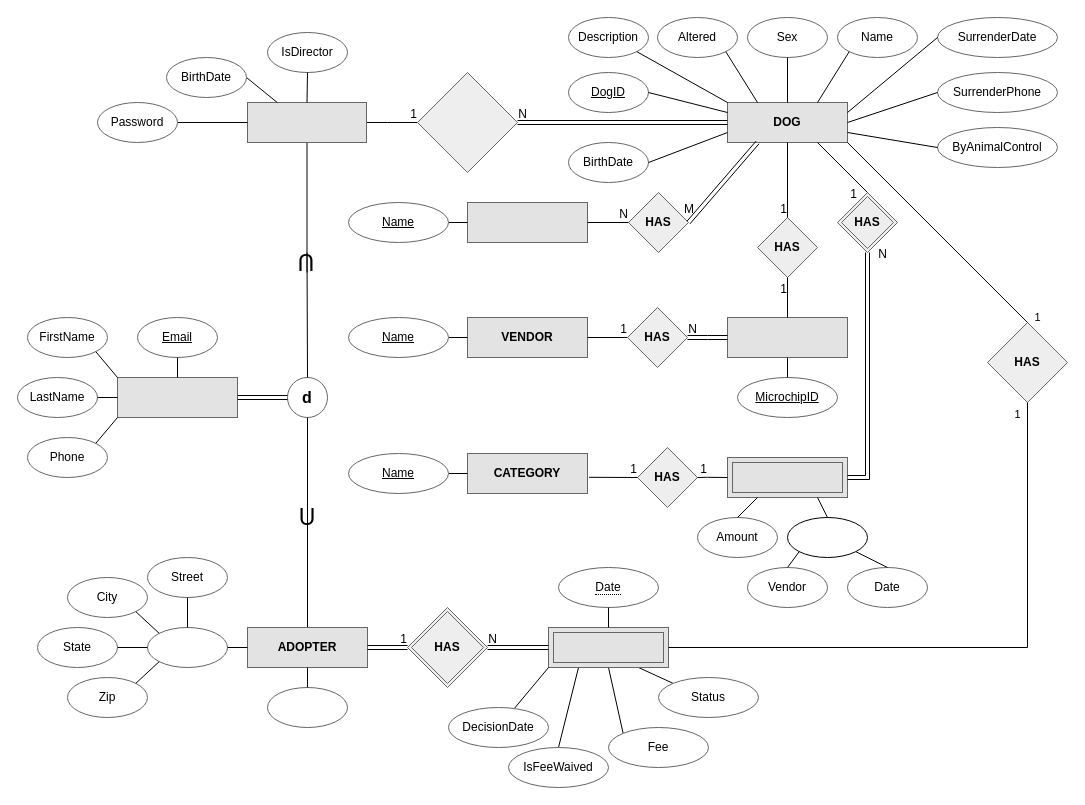
This 1085x805 diagram has some shape labels left out. The shapes that lost their labels are listed below. From the top down, each one's box as (x1, y1, x2, y2) in pixels, then its label:
(246, 102, 366, 142): USER
(416, 72, 518, 172): REGISTERS
(466, 202, 588, 242): BREED
(726, 316, 848, 358): MICROCHIP
(116, 376, 238, 418): PERSON
(726, 456, 848, 498): EXPENSE
(786, 516, 868, 558): VendorDate
(146, 626, 228, 668): Address
(548, 626, 668, 668): APPLICATION
(266, 686, 348, 728): Household
